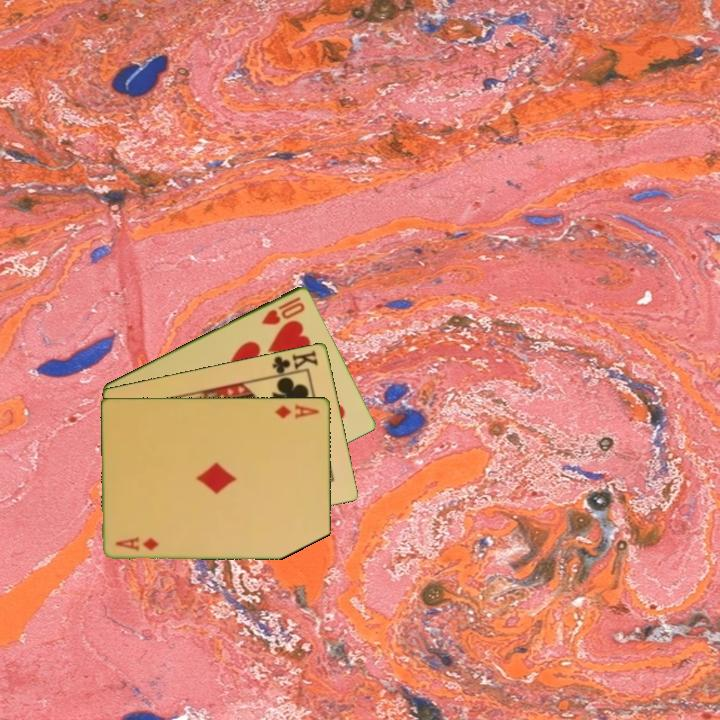10h: (258, 293, 308, 328)
Ad: (271, 400, 322, 421), (112, 533, 162, 554)
Kc: (269, 346, 321, 379)
